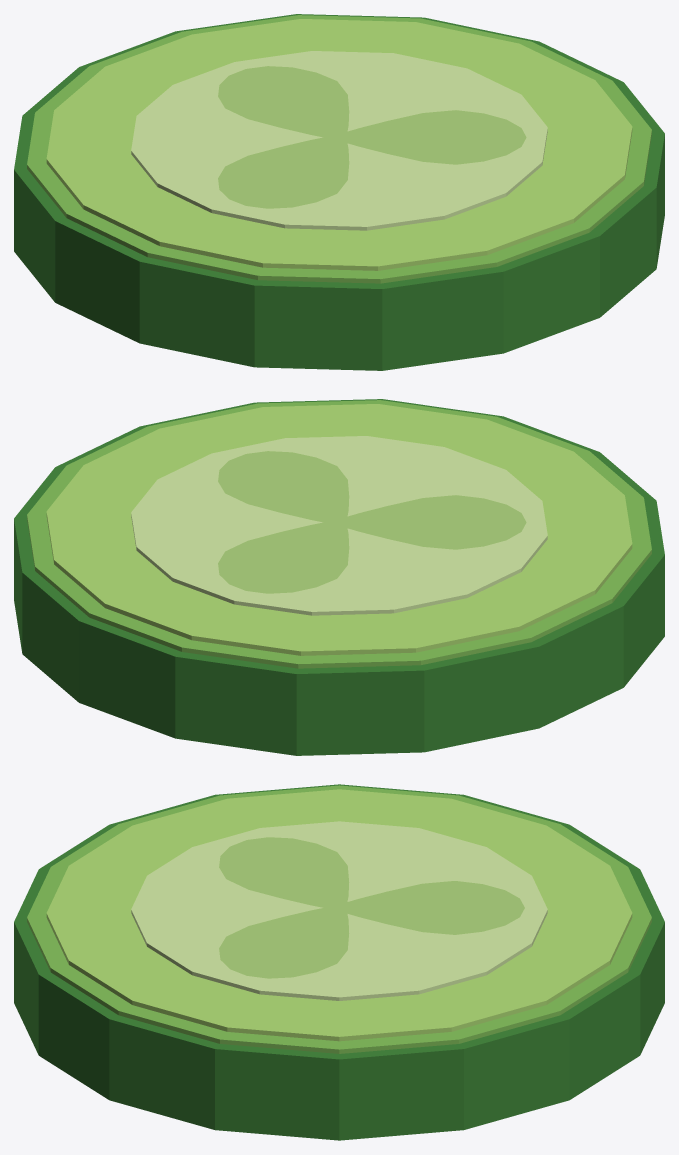
Rendered from cucumber_slice.fbx.
The picture shows the model from 3 angles, top to bottom: view 1: azimuth 30°, elevation 25°; view 2: azimuth 150°, elevation 25°; view 3: azimuth 270°, elevation 25°; orthographic projection.
Parts seen in each view (by area): view 1: Slice_Skin, Slice_Flesh, Slice_Center, Slice_Ring, Slice_Seed2, Slice_Seed0, Slice_Seed1; view 2: Slice_Skin, Slice_Flesh, Slice_Center, Slice_Ring, Slice_Seed1, Slice_Seed2, Slice_Seed0; view 3: Slice_Skin, Slice_Flesh, Slice_Center, Slice_Ring, Slice_Seed1, Slice_Seed0, Slice_Seed2.
Part boxes in pixels (<box>): Slice_Skin: <box>14,14,664,370</box>; Slice_Flesh: <box>46,19,632,270</box>; Slice_Center: <box>131,51,547,230</box>; Slice_Ring: <box>27,15,651,283</box>; Slice_Seed2: <box>335,110,526,164</box>; Slice_Seed0: <box>218,66,349,138</box>; Slice_Seed1: <box>218,137,349,208</box>; Slice_Skin: <box>14,399,664,755</box>; Slice_Flesh: <box>46,404,632,655</box>; Slice_Center: <box>131,436,547,615</box>; Slice_Ring: <box>27,400,651,668</box>; Slice_Seed1: <box>335,495,526,549</box>; Slice_Seed2: <box>218,451,349,524</box>; Slice_Seed0: <box>218,522,349,593</box>; Slice_Skin: <box>14,784,664,1140</box>; Slice_Flesh: <box>46,789,632,1041</box>; Slice_Center: <box>131,821,547,1000</box>; Slice_Ring: <box>27,785,651,1053</box>; Slice_Seed1: <box>219,837,349,909</box>; Slice_Seed0: <box>336,881,524,934</box>; Slice_Seed2: <box>219,908,349,978</box>.
Bounding box in the file's own units: 400 × 64.5 × 400.
